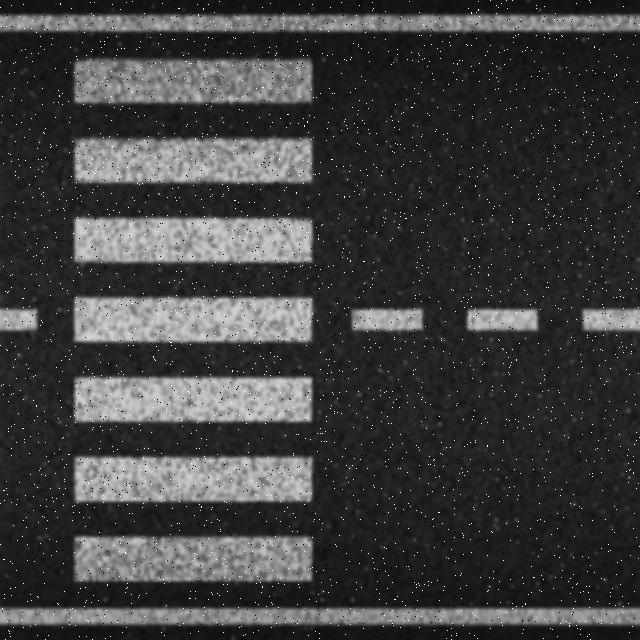crosswalk: (69, 56, 316, 586)
